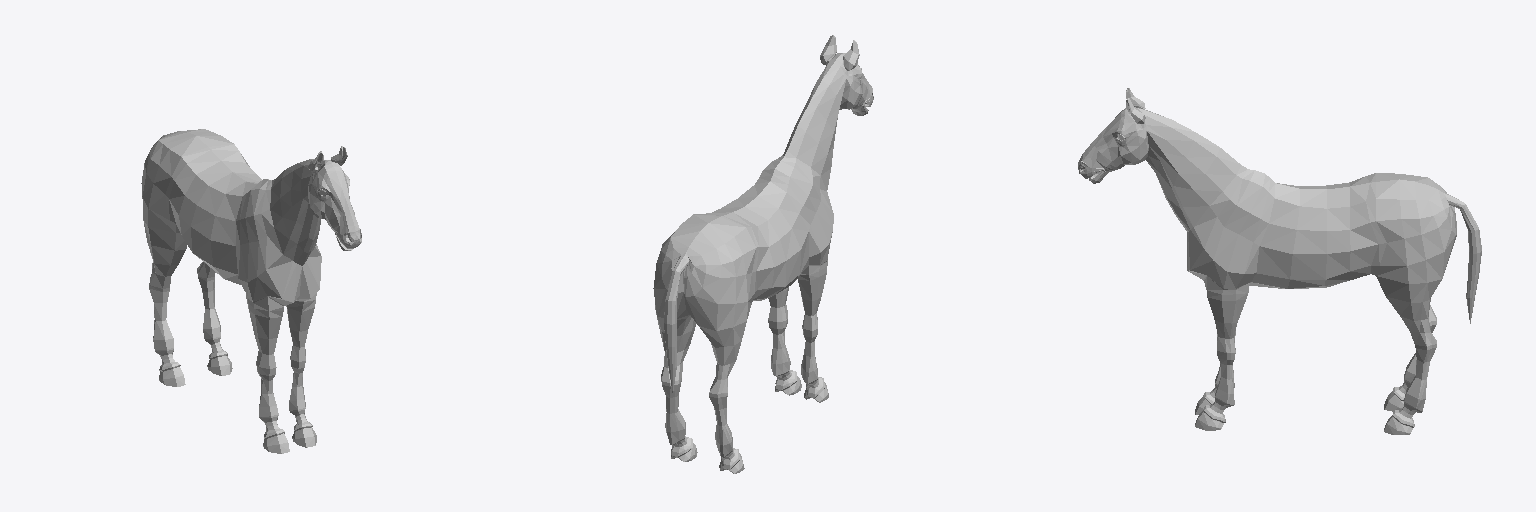
The model's file is horse.obj.
3 views of the same model, side by side, from view 1: azimuth 30°, elevation 25°; view 2: azimuth 150°, elevation 25°; view 3: azimuth 270°, elevation 25° (orthographic).
Parts seen in each view (by area): view 1: horse; view 2: horse; view 3: horse.
Part boxes in pixels (x1,y1,x2,y2): horse: (141,129,361,453); horse: (653,35,873,473); horse: (1078,88,1481,434).
Bounding box in the file's own units: 2.23 × 7.92 × 8.9.